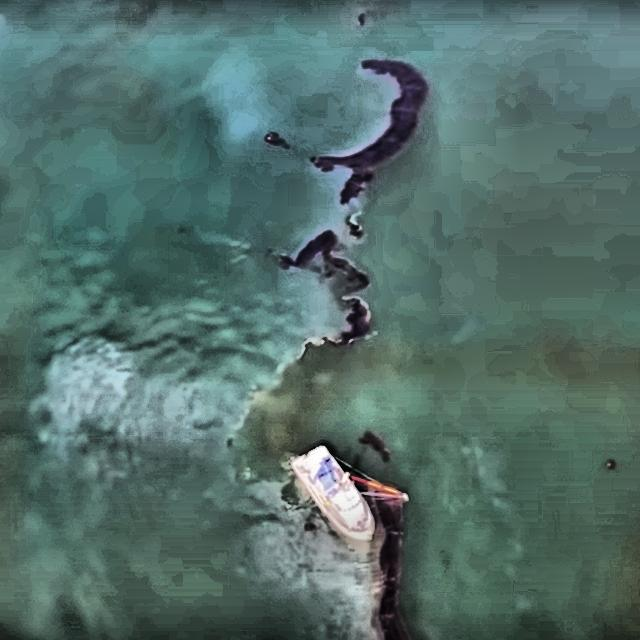truecolor: (311, 59, 429, 204), (336, 457, 411, 640), (278, 230, 372, 352), (361, 433, 391, 463), (346, 213, 364, 238)
